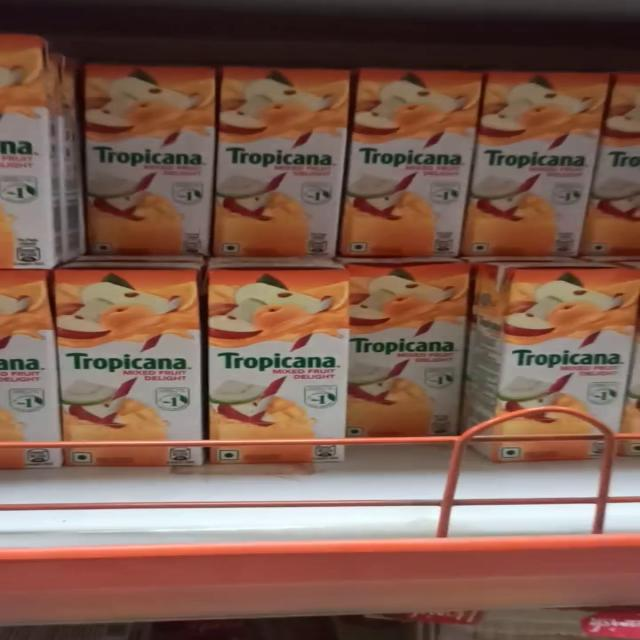Tropicana: (45, 257, 203, 464), (211, 255, 355, 462), (354, 250, 481, 460), (207, 65, 349, 252), (353, 57, 482, 257), (498, 272, 634, 460), (79, 62, 211, 250), (478, 72, 608, 254)
